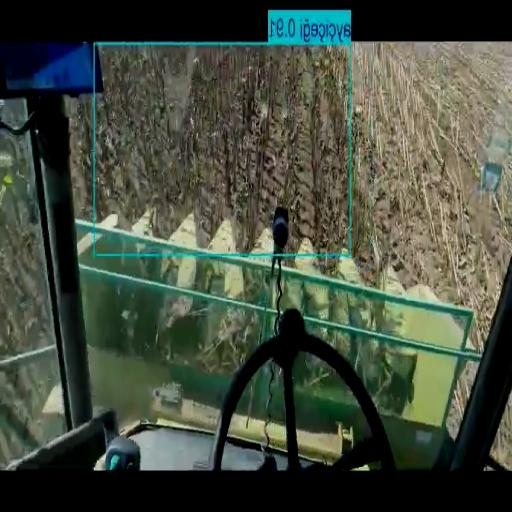ayc: (95, 47, 350, 249), (98, 47, 289, 196)
